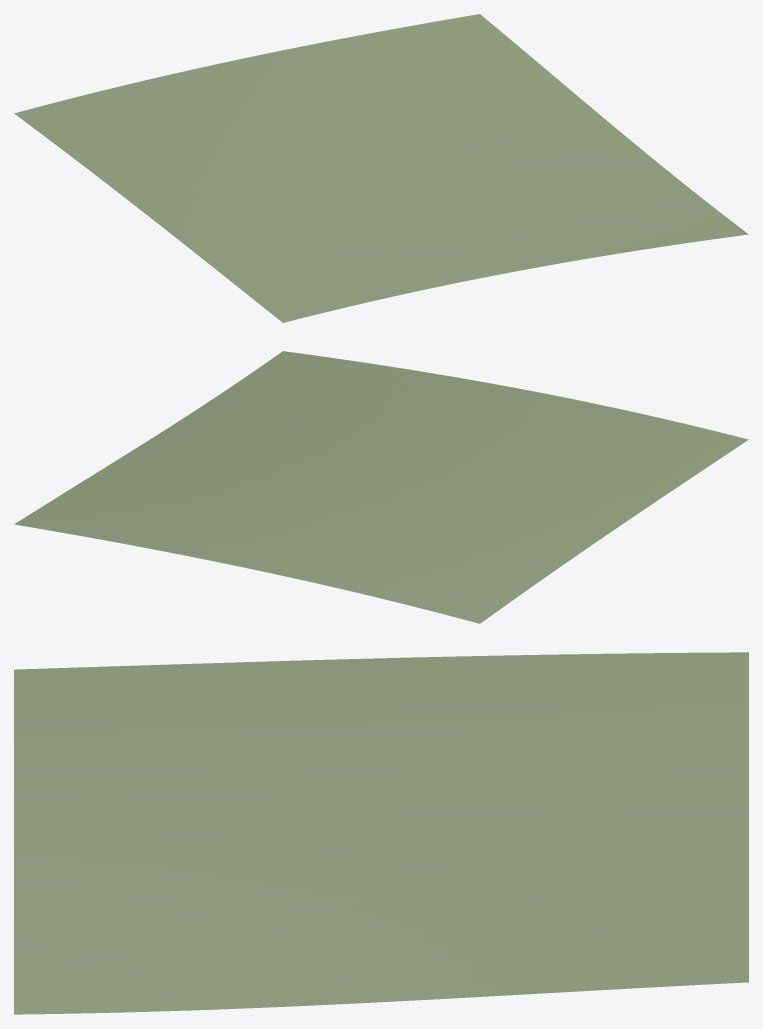
File: expanse-22-15.glb
3 renders of one model, top to bottom at view 1: azimuth 30°, elevation 25°; view 2: azimuth 150°, elevation 25°; view 3: azimuth 270°, elevation 25°, orthographic. The views are drawn at different scales.
Visible parts, largest first — view 1: expanse-22-15; view 2: expanse-22-15; view 3: expanse-22-15.
Boxes of the visible parts, x1=… form: expanse-22-15: x1=14, y1=14, x2=748, y2=322; expanse-22-15: x1=14, y1=351, x2=748, y2=623; expanse-22-15: x1=14, y1=652, x2=748, y2=1014.
Bounding box in the file's own units: 256 × 20.49 × 256.
